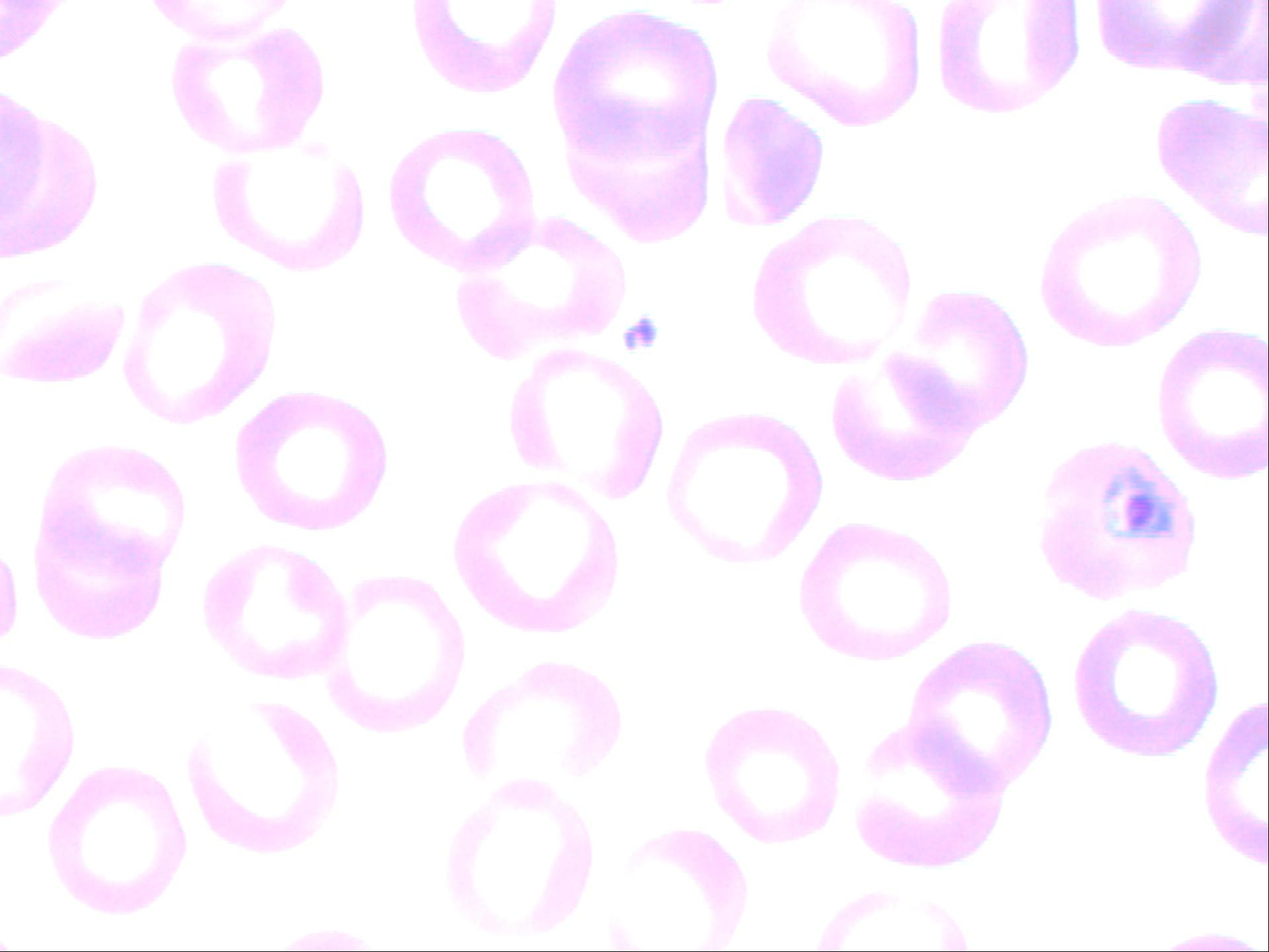Infected: (1033, 443, 1194, 598)
Uninfected: (555, 13, 716, 236), (36, 443, 183, 637), (455, 482, 619, 633), (899, 643, 1052, 803), (189, 696, 343, 854), (1044, 195, 1200, 348), (124, 263, 274, 422), (324, 577, 468, 733), (447, 784, 592, 938), (509, 352, 659, 500), (667, 416, 818, 561), (236, 392, 386, 531), (800, 524, 950, 661), (1075, 613, 1215, 755), (391, 131, 536, 268), (756, 219, 896, 360), (48, 767, 184, 911), (465, 661, 618, 788), (214, 145, 362, 273), (204, 546, 344, 680), (173, 27, 319, 153), (769, 1, 917, 125), (705, 707, 838, 844), (857, 747, 1005, 865), (894, 298, 1024, 432), (833, 349, 965, 479), (491, 221, 623, 350), (610, 831, 742, 952), (3, 94, 98, 259), (943, 0, 1075, 112), (1159, 100, 1264, 237), (1161, 338, 1269, 469), (0, 274, 123, 387), (416, 1, 555, 92), (723, 100, 820, 226)
